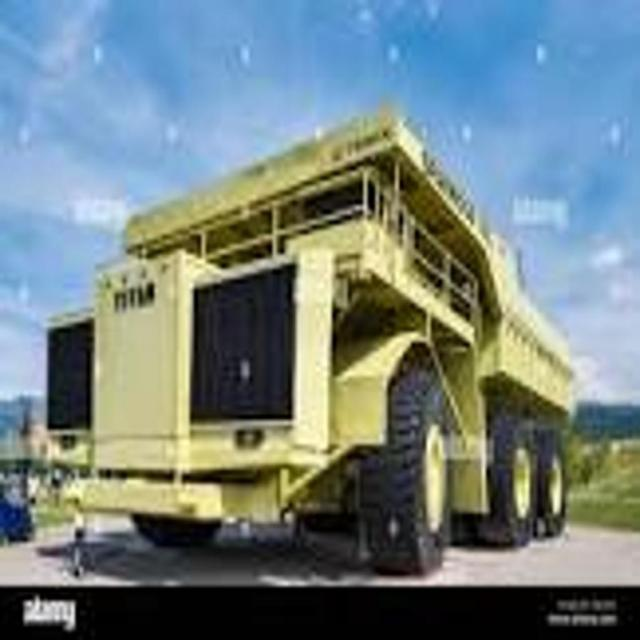dump_truck: (42, 102, 588, 580)
